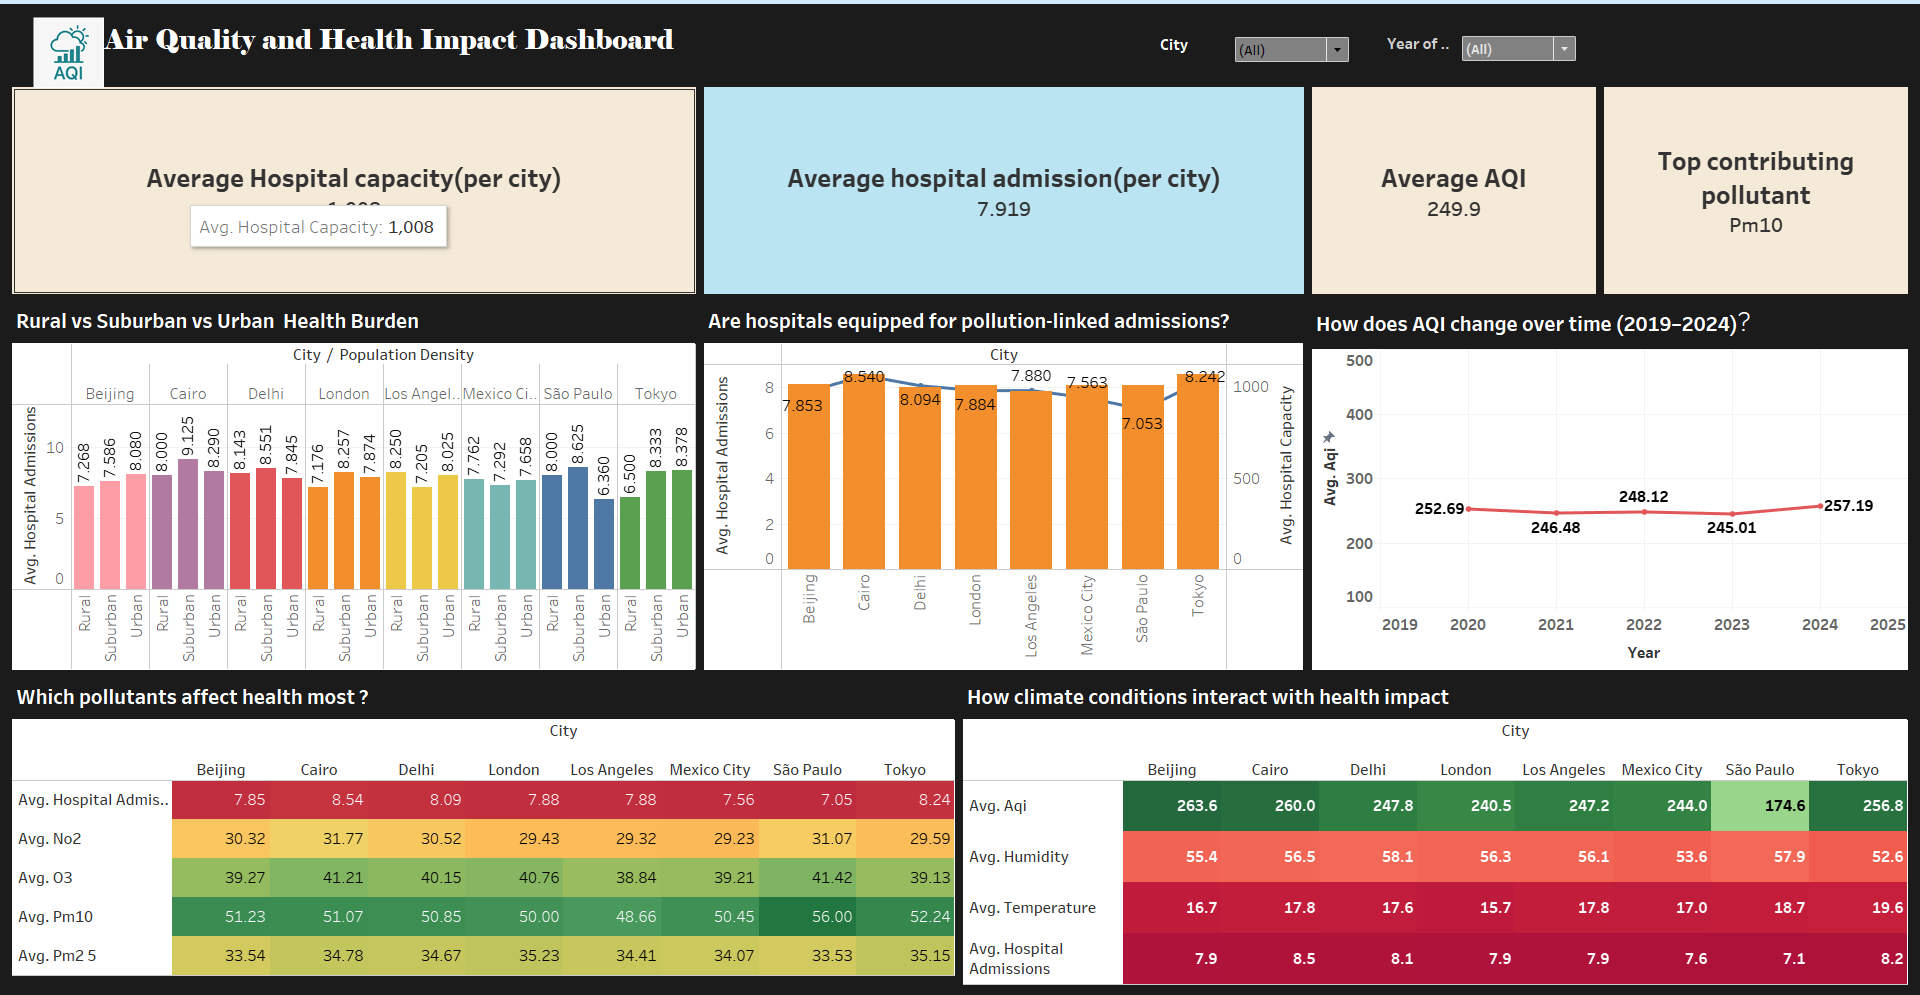

The page's visual inventory and layout, read from the dashboard file:
{"tool":"tableau","page":{"name":"Dashboard 1","canvas":[1000,1000],"units":"permille","ordinal":0},"visuals":[{"type":"title","box":[4.9,10.6,990.2,74]},{"type":"image","param":"Image/8575f059-3085-4a88-b77b-38f810ae51f4.png","box":[8.6,13.2,53.4,71.3]},{"type":"filter","title":"Sheet 6","param":"[federated.1h5hagk0z4y5ms1b43jag1ytxxvv].[yr:date:ok]","box":[722.4,29.1,100.1,34.4]},{"type":"filter","title":"Sheet 1","param":"[federated.1h5hagk0z4y5ms1b43jag1ytxxvv].[none:city:nk]","box":[604.4,30.4,100.1,34.4]},{"type":"worksheet","title":"Sheet 9","mark":"Automatic","box":[4.9,84.5,359.8,226.2]},{"type":"worksheet","title":"Sheet 10","mark":"Automatic","box":[364.8,84.5,316.3,226.2]},{"type":"worksheet","title":"Sheet 11","mark":"Automatic","box":[681.1,84.5,151.8,226.2]},{"type":"worksheet","title":"Sheet 12","mark":"Automatic","box":[832.9,84.5,162.2,226.2]},{"type":"worksheet","title":"Sheet 6","mark":"Automatic","rows":["hospital_admissions"],"cols":["city","population_density"],"box":[4.9,310.8,359.8,369.4]},{"type":"worksheet","title":"Sheet 8","mark":"Automatic","rows":["hospital_admissions","hospital_capacity"],"cols":["city"],"box":[364.8,310.8,316.2,369.4]},{"type":"worksheet","title":"Sheet 1","mark":"Automatic","rows":["aqi"],"cols":["Year"],"box":[681,310.8,314.1,369.4]},{"type":"worksheet","title":"Sheet 5","mark":"Square","cols":["city"],"box":[4.9,680.2,494.6,309.2]},{"type":"worksheet","title":"Sheet 7","mark":"Square","cols":["city"],"box":[499.6,680.2,495.5,309.2]}]}

Visuals, with their boxes on the dashboard's canvas, which has no fixed pixel size, in thousandths of its width and height (x1, y1, x2, y2). These are canvas units, not pixel positions in the 1920x995 screenshot, which may show the page scaled, cropped or inside an application window:
title: left=5, top=11, right=995, bottom=85
image: left=9, top=13, right=62, bottom=84
"Sheet 6" filter: left=722, top=29, right=822, bottom=64
"Sheet 1" filter: left=604, top=30, right=704, bottom=65
"Sheet 9" worksheet: left=5, top=84, right=365, bottom=311
"Sheet 10" worksheet: left=365, top=84, right=681, bottom=311
"Sheet 11" worksheet: left=681, top=84, right=833, bottom=311
"Sheet 12" worksheet: left=833, top=84, right=995, bottom=311
"Sheet 6" worksheet: left=5, top=311, right=365, bottom=680
"Sheet 8" worksheet: left=365, top=311, right=681, bottom=680
"Sheet 1" worksheet: left=681, top=311, right=995, bottom=680
"Sheet 5" worksheet (Square marks): left=5, top=680, right=500, bottom=989
"Sheet 7" worksheet (Square marks): left=500, top=680, right=995, bottom=989
